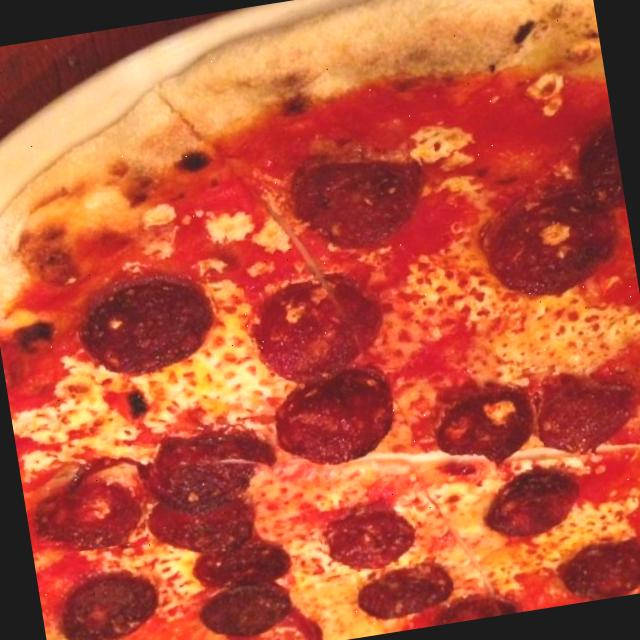pepperoni: (244, 268, 398, 390), (475, 188, 630, 304), (78, 266, 218, 382), (280, 150, 426, 258), (136, 418, 286, 516), (270, 364, 402, 472), (529, 359, 640, 461), (428, 385, 548, 478), (142, 486, 268, 564), (30, 477, 148, 557), (477, 464, 586, 546), (53, 565, 163, 640), (316, 501, 422, 576), (190, 531, 297, 598), (352, 558, 459, 623), (201, 578, 299, 640), (558, 531, 640, 604), (58, 443, 152, 502), (573, 116, 626, 215), (439, 594, 515, 624)
pizza: (0, 0, 640, 640)
